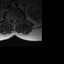CCS_normal: (13, 17, 15, 25)
LFS_severe_stenosis: (17, 17, 19, 21)
LLS_stenosis: (15, 17, 17, 22)
RFS_stenosis: (10, 16, 12, 21)
RLS_stenosis: (12, 17, 13, 22)
